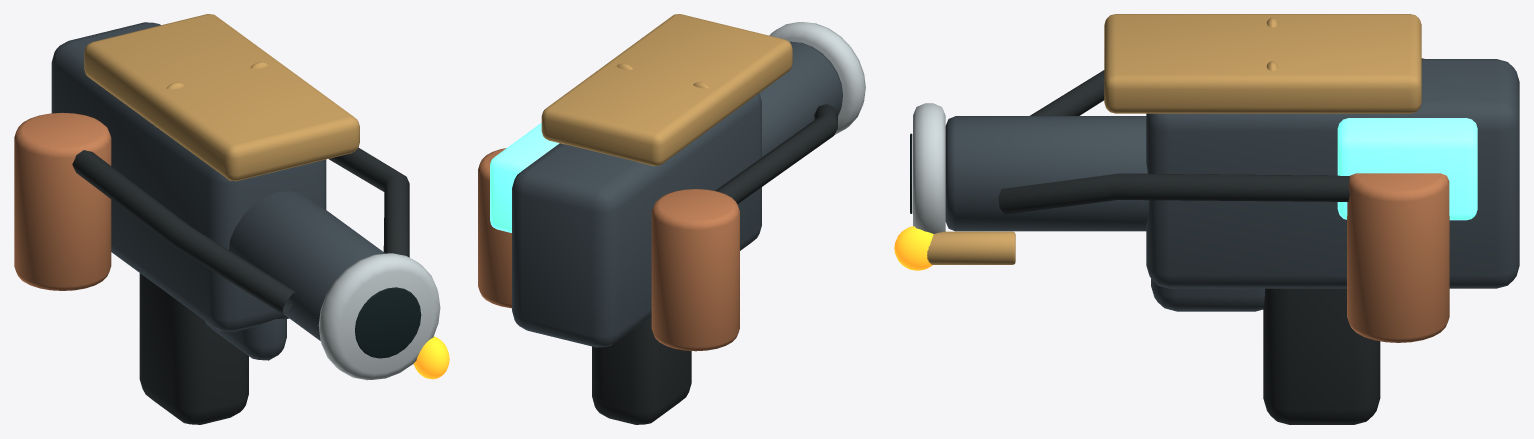
Rendered from flamethrower.t4.glb.
The picture shows the model from 3 angles, left to right: view 1: azimuth 30°, elevation 25°; view 2: azimuth 150°, elevation 25°; view 3: azimuth 270°, elevation 25°; orthographic projection. The views are drawn at different scales.
Parts seen in each view (by area): view 1: weapon_right__forged_bluelead_steel__protected, weapon_right__worn_warm_brass__protected, weapon_right__charcoal_rubber__protected, weapon_right__burnished_copper__protected, weapon_right__honed_steel_edge__protected, weapon_right__eye_socket__protected, weapon_right__flame_channel__protected; view 2: weapon_right__forged_bluelead_steel__protected, weapon_right__worn_warm_brass__protected, weapon_right__burnished_copper__protected, weapon_right__charcoal_rubber__protected, weapon_right__honed_steel_edge__protected, weapon_right__mint_reticle__protected; view 3: weapon_right__forged_bluelead_steel__protected, weapon_right__worn_warm_brass__protected, weapon_right__charcoal_rubber__protected, weapon_right__burnished_copper__protected, weapon_right__mint_reticle__protected, weapon_right__honed_steel_edge__protected, weapon_right__flame_channel__protected.
Boxes of the visible parts, x1,y1,x2,y2 form: weapon_right__forged_bluelead_steel__protected: [51, 22, 385, 360]; weapon_right__worn_warm_brass__protected: [84, 14, 413, 364]; weapon_right__charcoal_rubber__protected: [72, 147, 409, 424]; weapon_right__burnished_copper__protected: [14, 112, 111, 290]; weapon_right__honed_steel_edge__protected: [318, 253, 440, 380]; weapon_right__eye_socket__protected: [355, 287, 421, 358]; weapon_right__flame_channel__protected: [413, 336, 449, 379]; weapon_right__forged_bluelead_steel__protected: [512, 41, 842, 347]; weapon_right__worn_warm_brass__protected: [541, 14, 792, 166]; weapon_right__burnished_copper__protected: [478, 148, 739, 351]; weapon_right__charcoal_rubber__protected: [592, 104, 837, 424]; weapon_right__honed_steel_edge__protected: [769, 22, 865, 134]; weapon_right__mint_reticle__protected: [490, 123, 559, 232]; weapon_right__forged_bluelead_steel__protected: [945, 59, 1519, 311]; weapon_right__worn_warm_brass__protected: [927, 14, 1421, 264]; weapon_right__charcoal_rubber__protected: [998, 70, 1380, 424]; weapon_right__burnished_copper__protected: [1347, 58, 1449, 342]; weapon_right__mint_reticle__protected: [1337, 118, 1477, 220]; weapon_right__honed_steel_edge__protected: [913, 103, 945, 233]; weapon_right__flame_channel__protected: [894, 226, 933, 270].
Size of the model in its own units: 0.3816 by 0.4685 by 0.7102.
